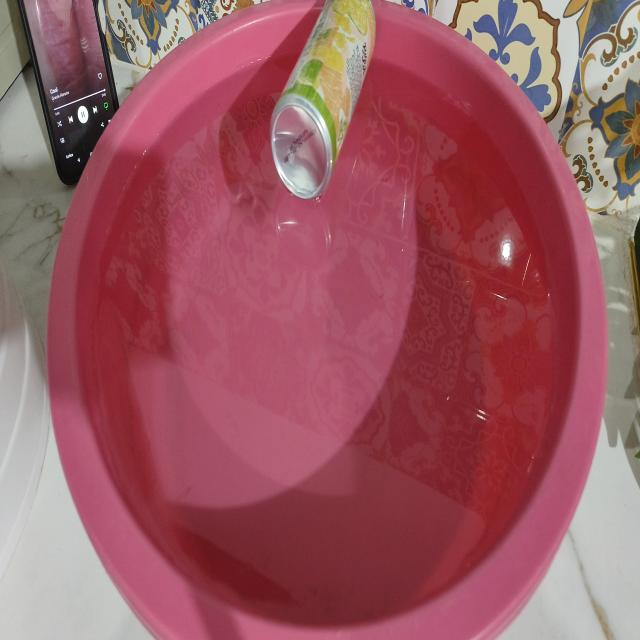Aluminum Can: (271, 0, 376, 199)
